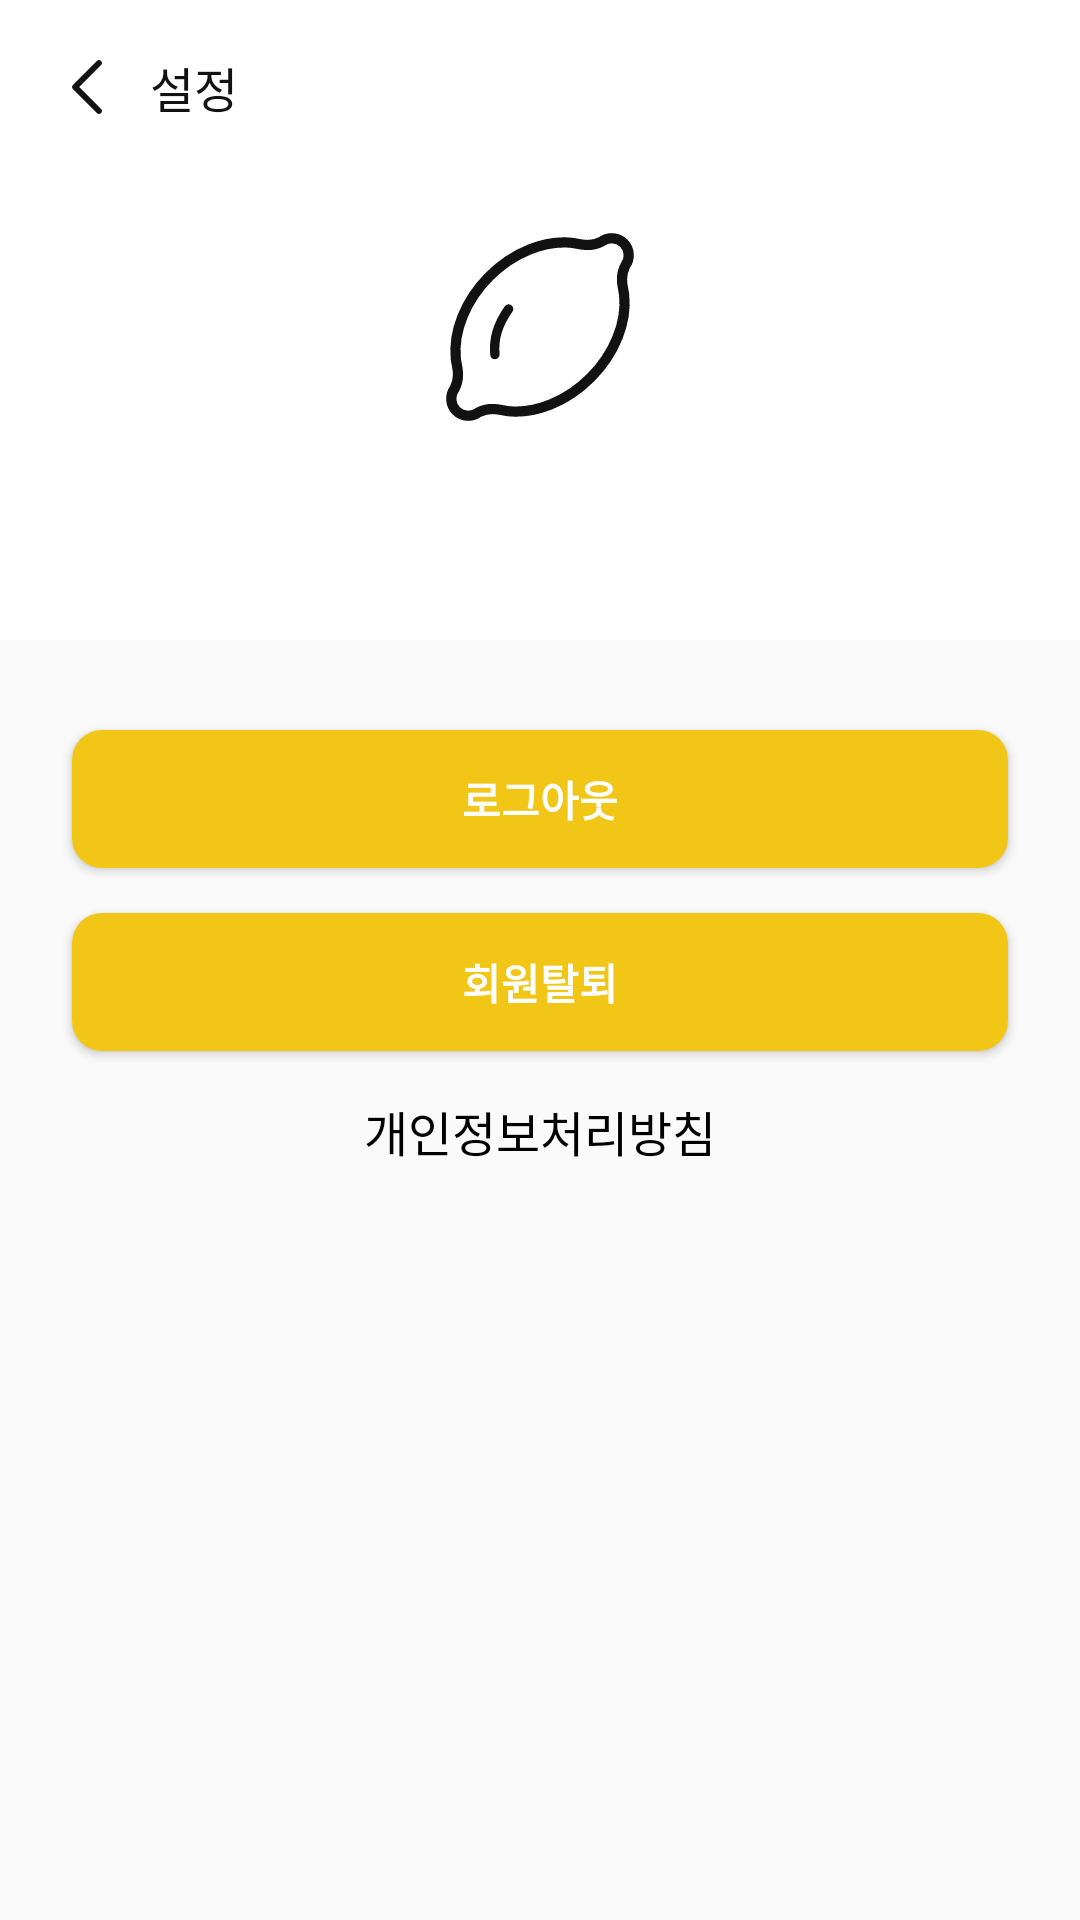

Icons on this 1080w x 1920h Android screen, each with its box as [left=x1, top=y1, right=x2, bottom=y2]:
back: [left=72, top=60, right=102, bottom=114]
lemon: [left=446, top=233, right=634, bottom=421]
